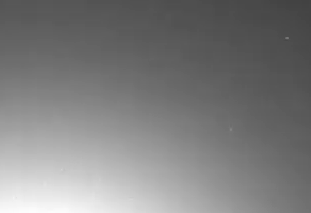Target: (230, 38, 288, 130)
